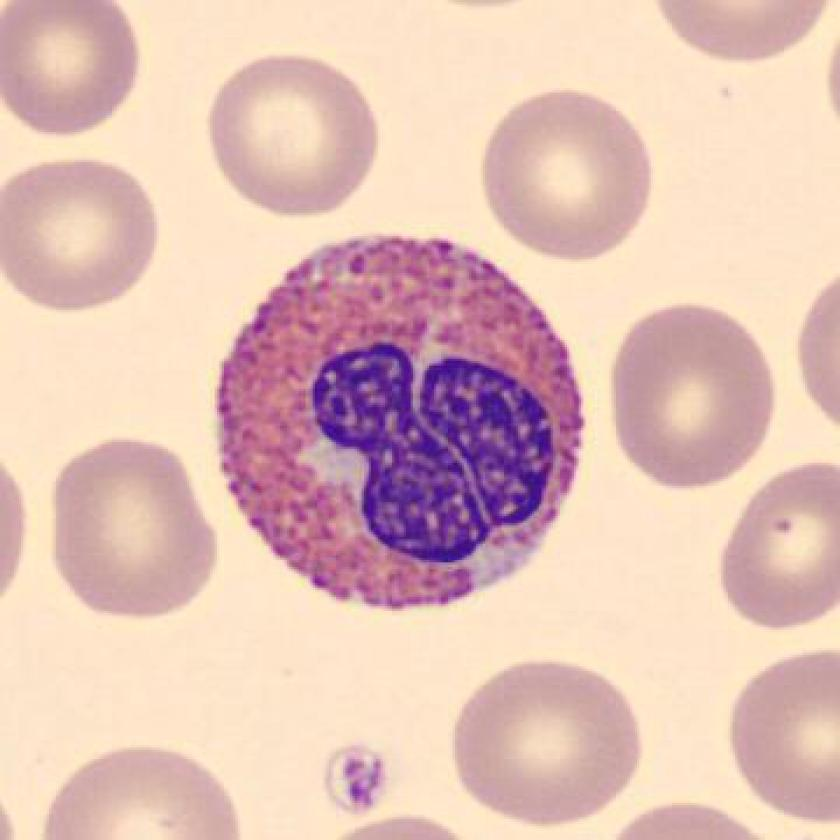eosinophil: (202, 225, 601, 633)
